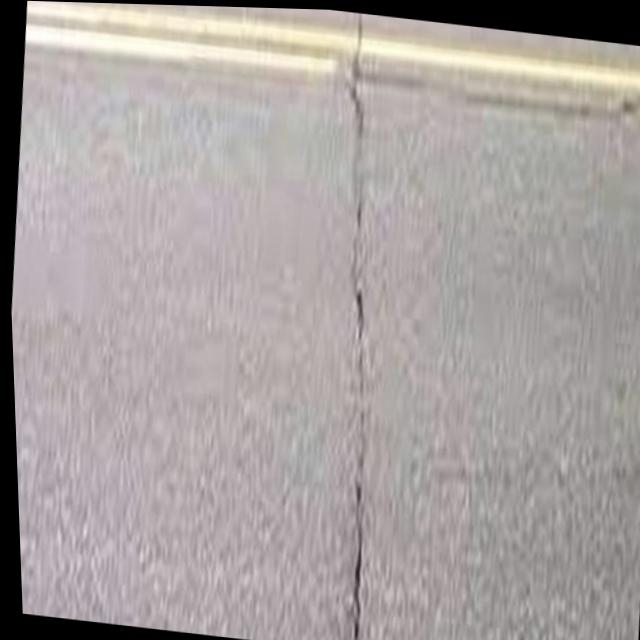Crack: (286, 67, 431, 640)
